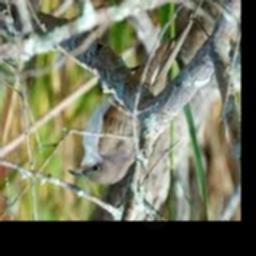Cuckoo: (67, 32, 186, 184)
